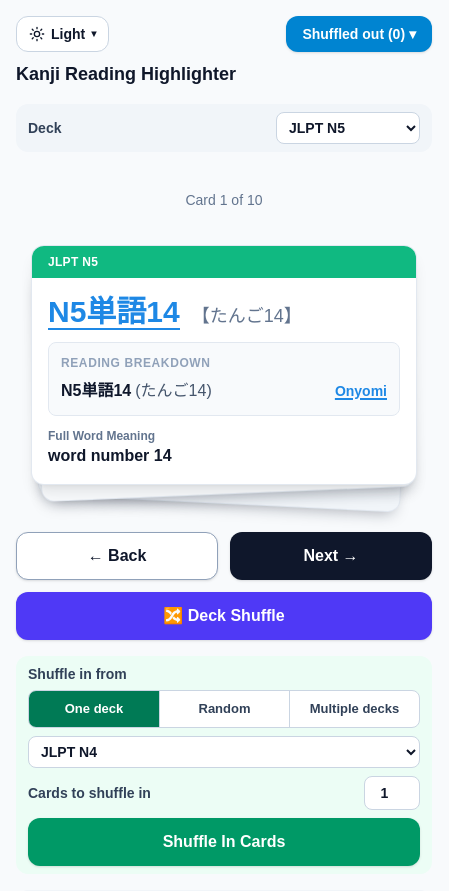
it: Shuffle In Cards from a deck that hasn’t loaded yet (ARCH2) › changing the count while it waits cancels it: nothing is shuffled in when the file arrives
The image size is (449, 891).
Check: the text "Card 1 of 10" is shown, box [186,192,263,208]
Step 1. Clear the number field labelled "Cards to shuffle in" → (392, 793), box [364,776,420,810]
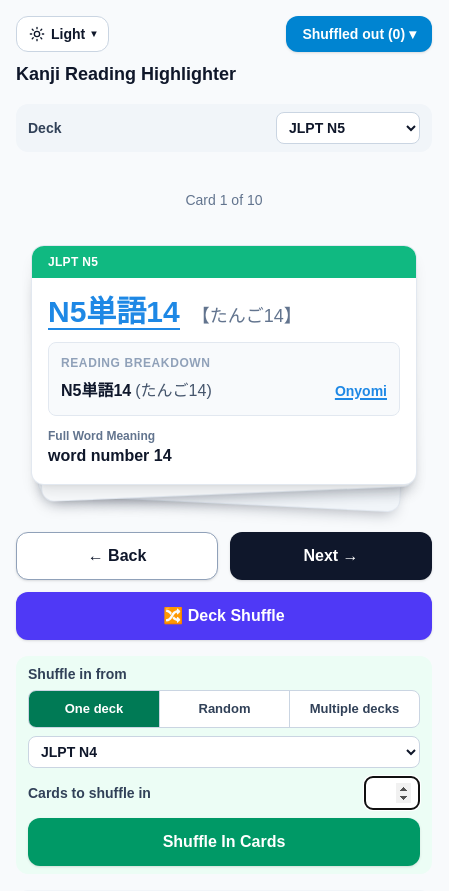
Step 2. Type keys "1"
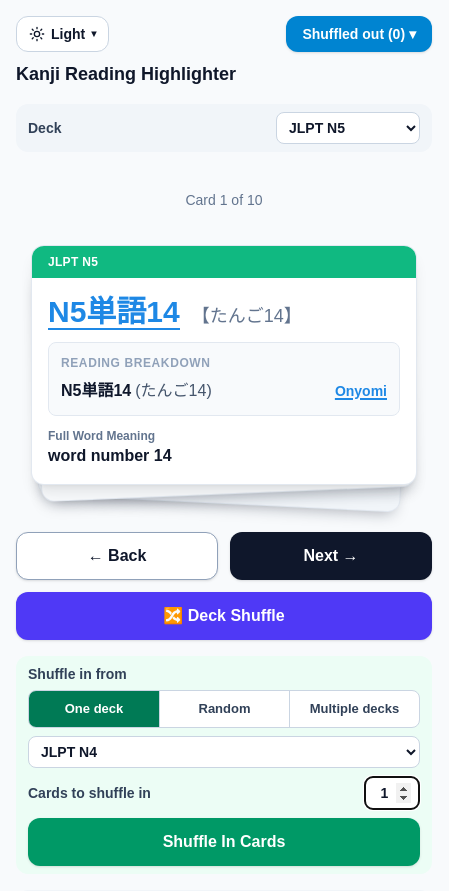
Step 3. Click the button "Shuffle In Cards" → (224, 842), box [28,818,420,866]
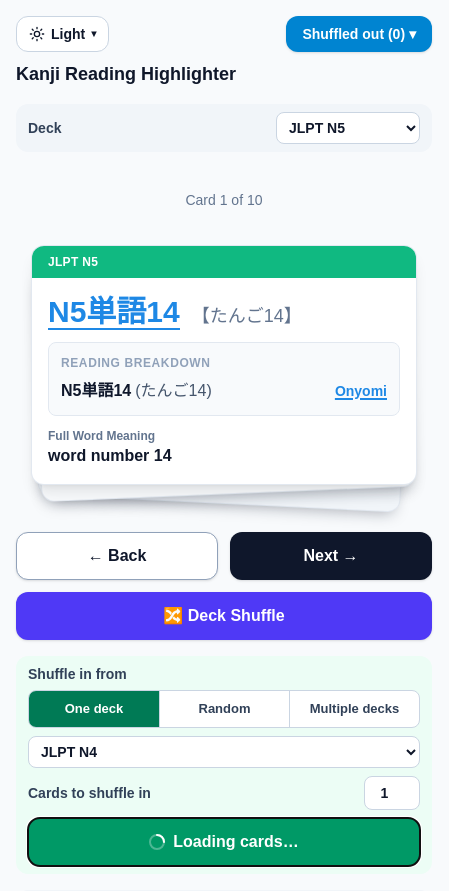
Step 4. Type "2" into the number field labelled "Cards to shuffle in" → (392, 793), box [364,776,420,810]
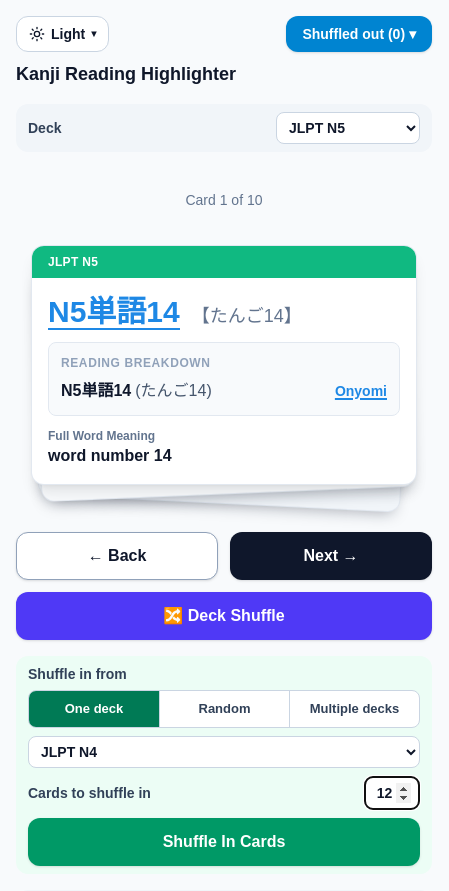
Check: the button "Shuffle In Cards" is shown, box [28,818,420,866]
